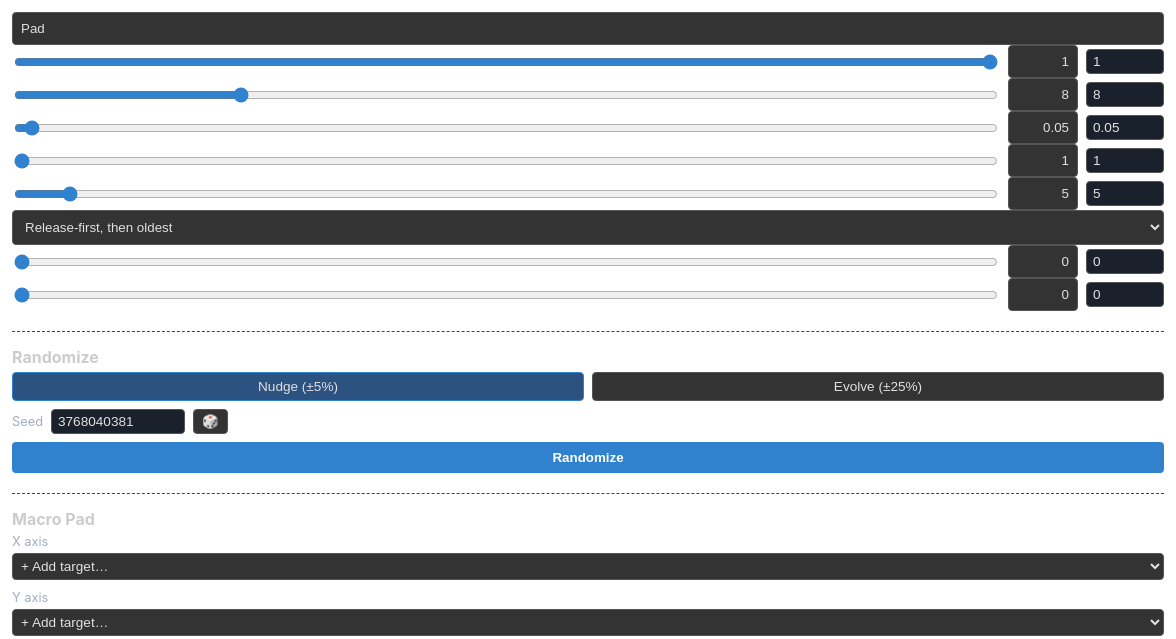
Test: E12 macro pad — target assignment › assigns a target to an axis and shows it with the schema default range
Select "Filter:cutoff" in the dropdown with test id "macro-add-x". click: [588, 566]
box: [12,553,1164,580]
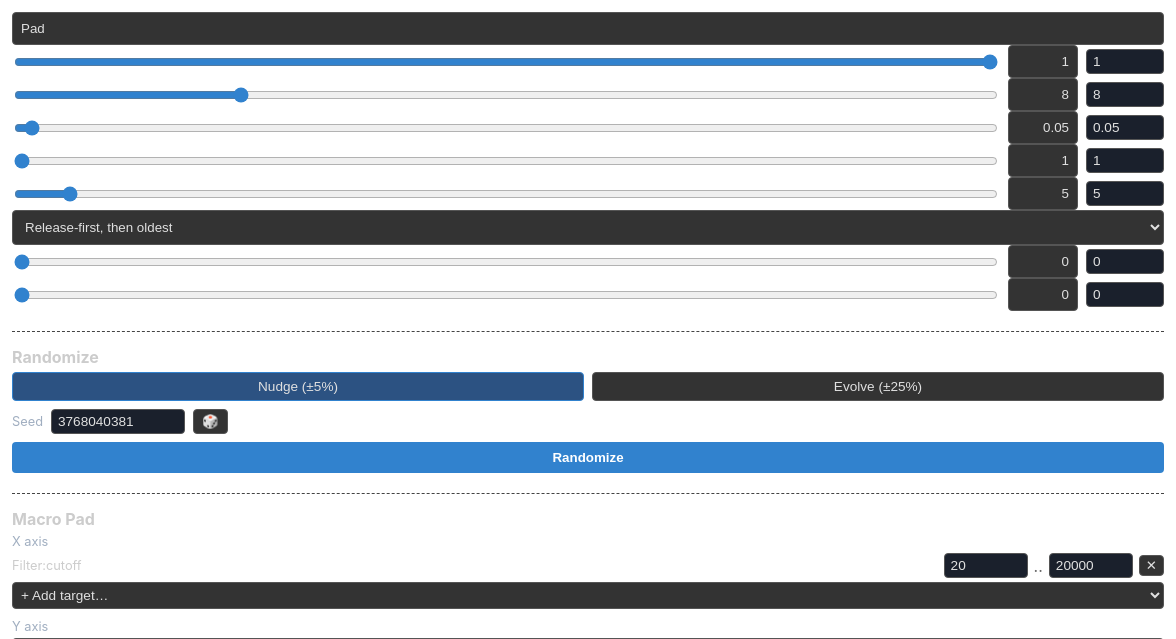
Expected: the number field with test id "macro-min-x-flt-1-cutoff" holds "20", [944,553,1028,578]
Expected: the number field with test id "macro-max-x-flt-1-cutoff" holds "20000", [1049,553,1133,578]
